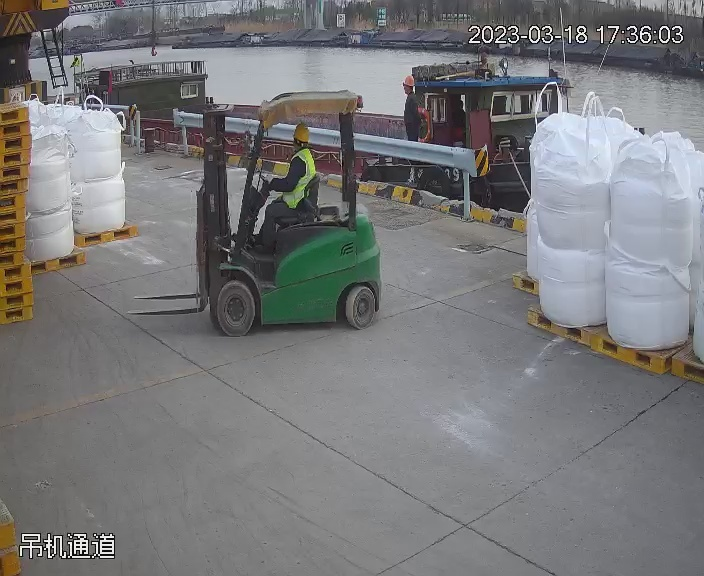head: (280, 121, 317, 175), (401, 73, 420, 107)
helmet: (292, 121, 311, 141), (402, 73, 415, 86)
people: (245, 120, 320, 252), (401, 72, 426, 141)
